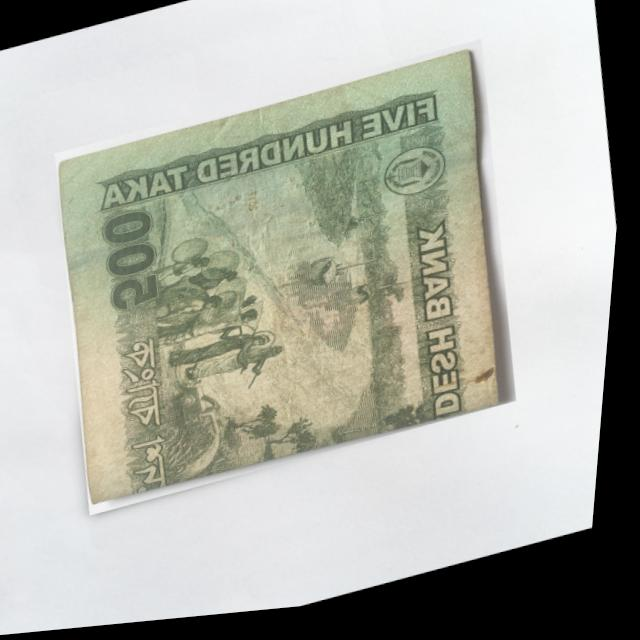Taka: (34, 44, 547, 522)
